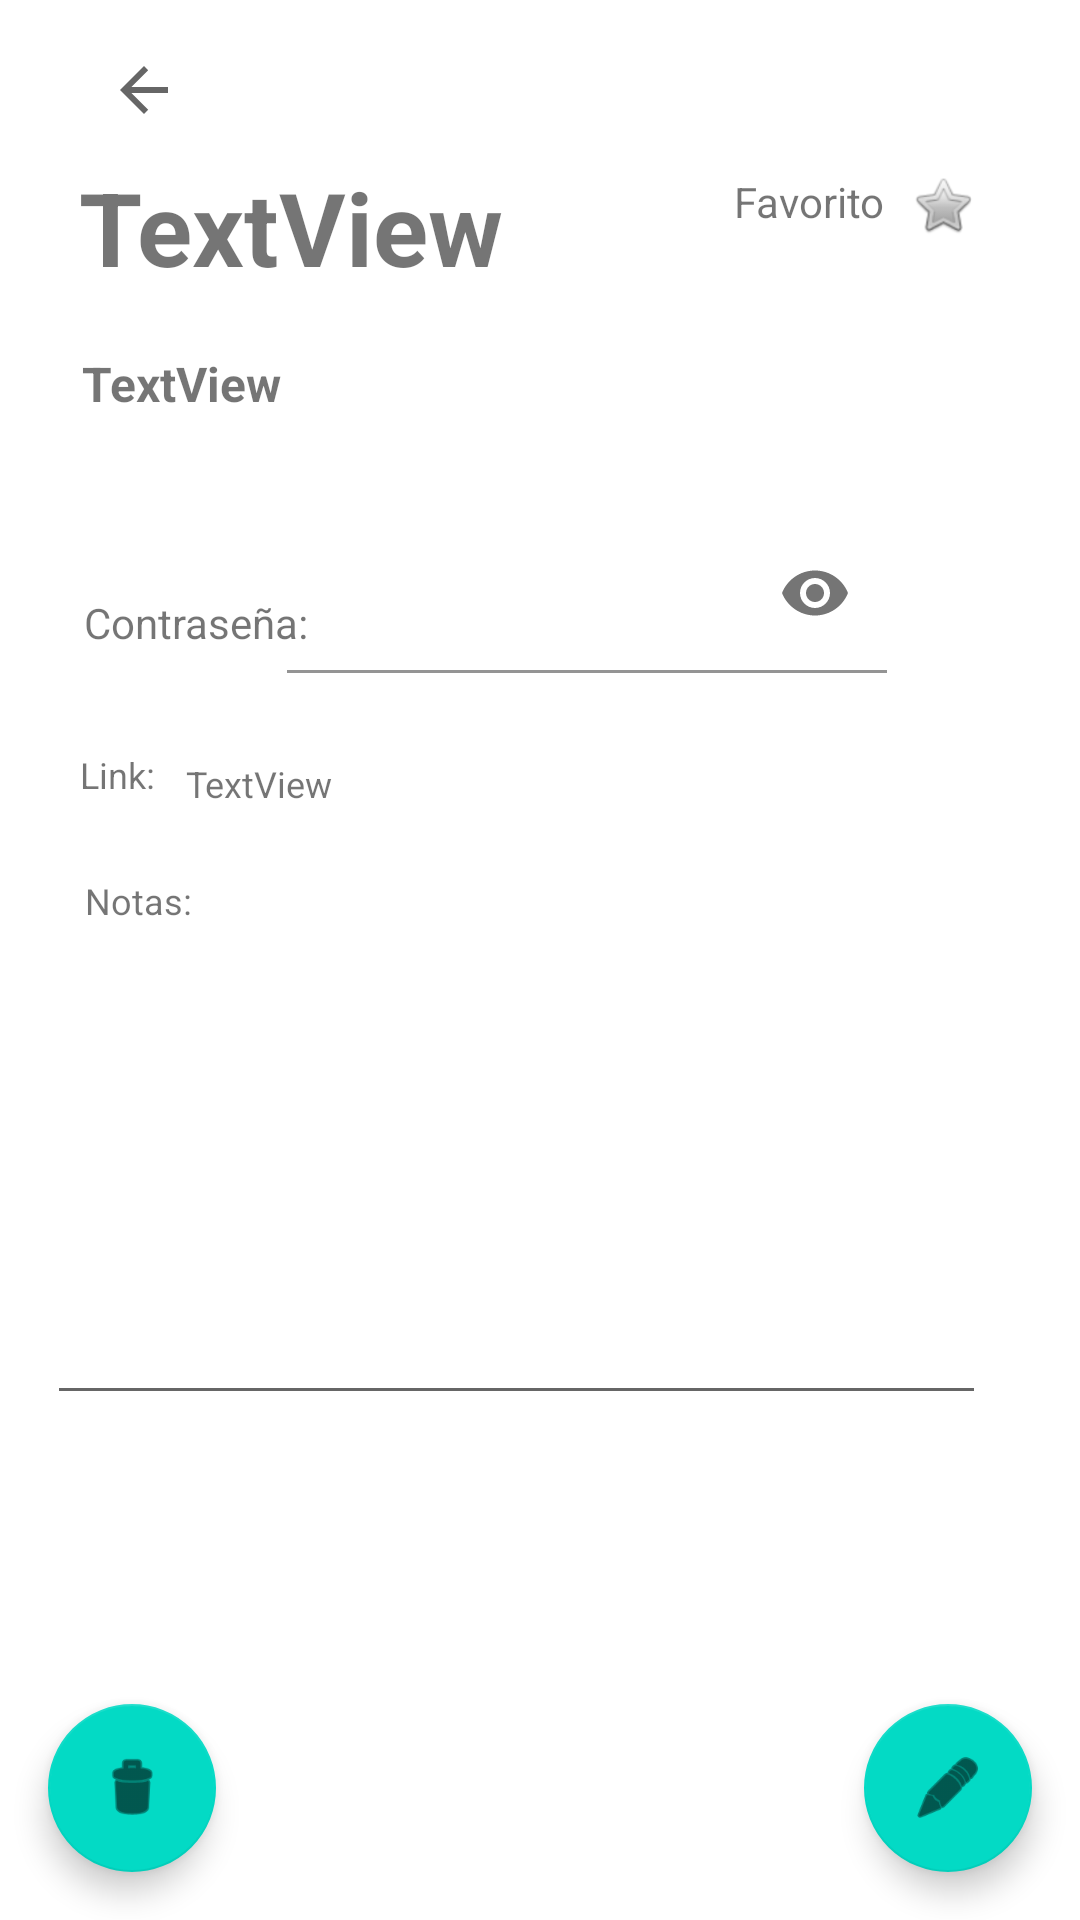

Where to tap for icons on this 1080px x 1920px app screen, as point (x, y):
delete: point (132, 1788)
edit: point (948, 1788)
star: point (943, 205)
